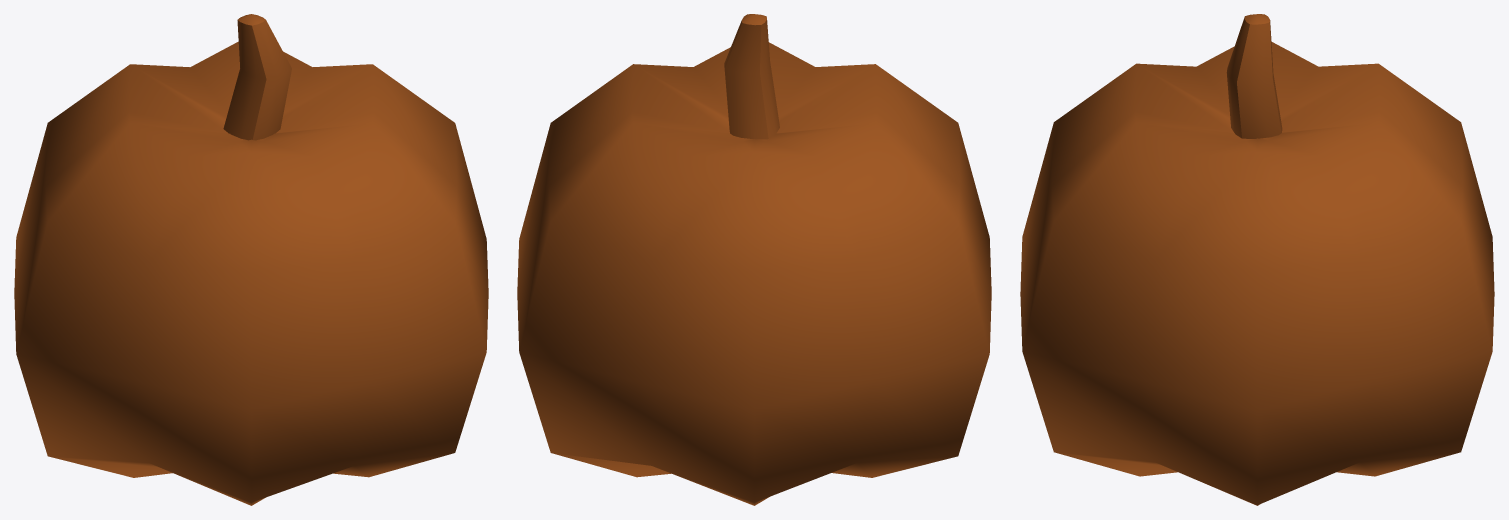
Rendered from Citrouille_Petitl.fbx.
3 views of the same model, side by side, from view 1: azimuth 30°, elevation 25°; view 2: azimuth 150°, elevation 25°; view 3: azimuth 270°, elevation 25° (orthographic).
Parts seen in each view (by area): view 1: Sphere007; view 2: Sphere007; view 3: Sphere007.
Part boxes in pixels (x1,y1,x2,y2): Sphere007: [14, 14, 488, 505]; Sphere007: [517, 14, 991, 505]; Sphere007: [1020, 14, 1494, 505].
Size of the model in its own units: 27.2 by 24.02 by 23.75.
